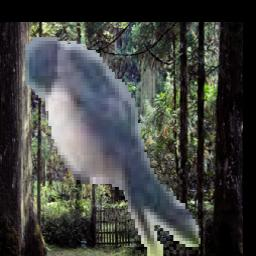Swallow: (25, 37, 201, 256)
